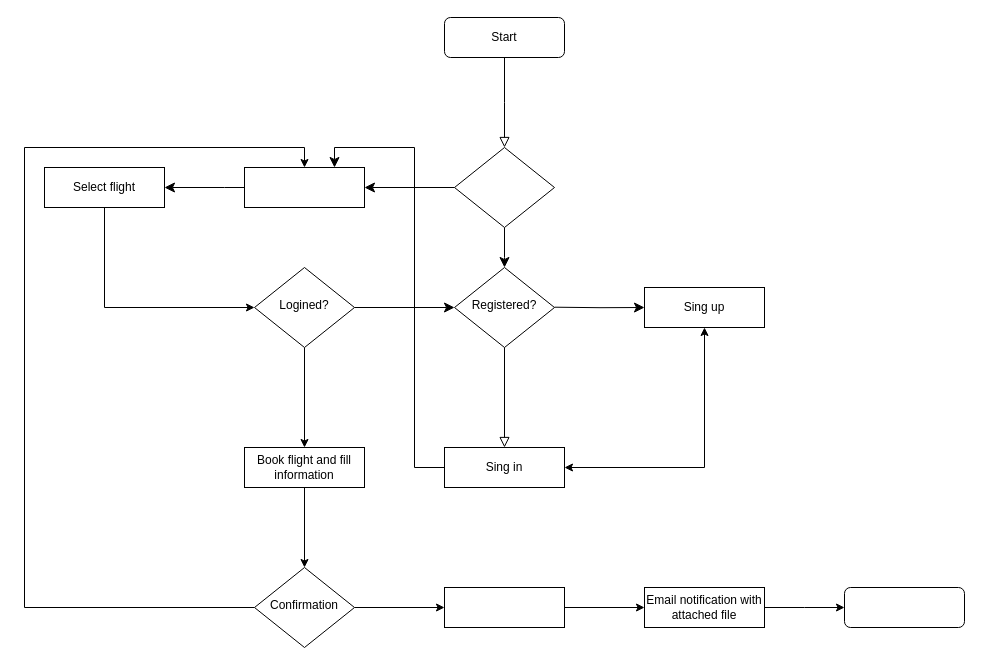
Some shapes in this 982 by 665 pixel diagram are drawn without their labels. The shapes that lost their labels are listed below. From the top down, each one's centre as x and y in pixels, then its label:
At [304,187]: "Search flight".
At [504,187]: "Search/Login".
At [504,607]: "Payment".
At [904,607]: "Finish".
